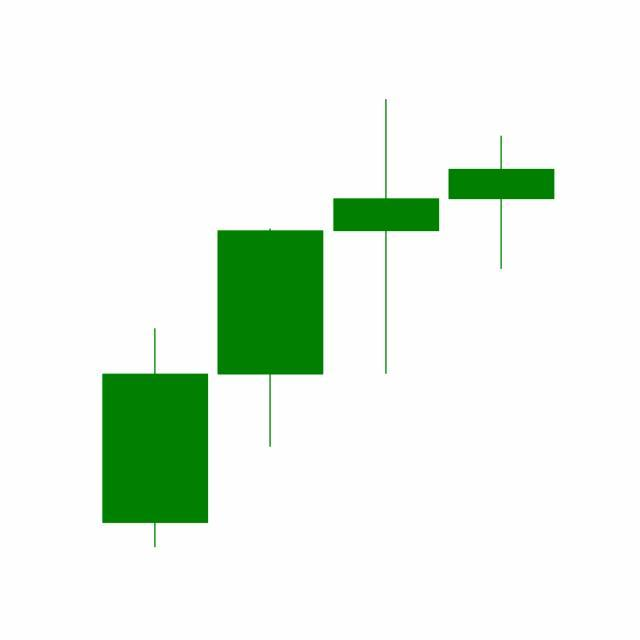Spinning Top: (329, 97, 445, 379)
